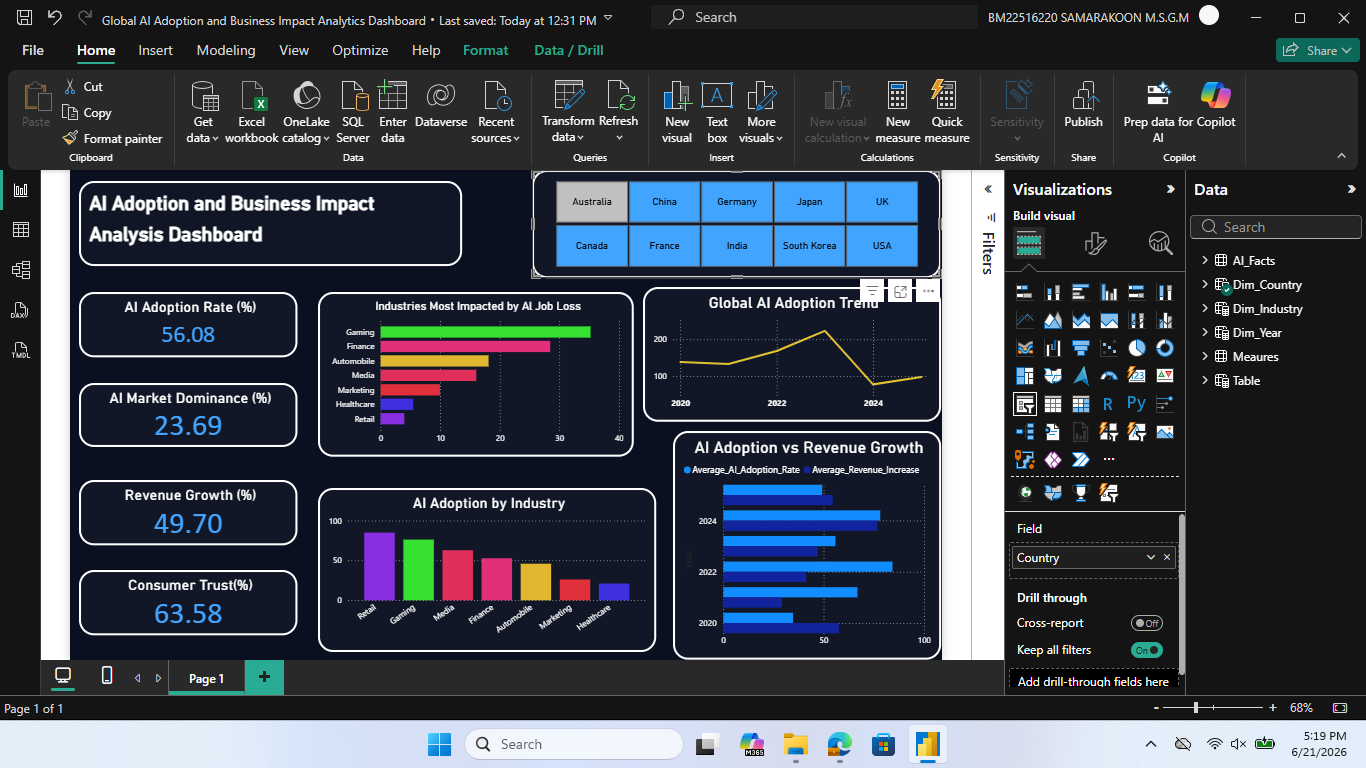

What the dashboard file says about the page in this screenshot:
{"tool":"powerbi","page":{"name":"Page 1","canvas":[1280,720],"ordinal":0},"visuals":[{"type":"card","title":" AI Adoption Rate (%)","fields":{"Values":["Meaures.Average_AI_Adoption_Rate"]},"box":[13.4,179.7,320.8,95.7],"z":0},{"type":"card","title":" Revenue Growth (%)","fields":{"Values":["Meaures.Average_Revenue_Increase"]},"box":[13.4,455.2,320.8,95.7],"z":1000},{"type":"card","title":"Consumer Trust(%)","fields":{"Values":["Meaures.Average_Consumer_Trust"]},"box":[13.4,587.9,320.8,95.7],"z":2000},{"type":"card","title":"AI Market  Dominance (%)","fields":{"Values":["Meaures.Average_market_Share"]},"box":[13.4,312.4,320.8,94.1],"z":3000},{"type":"lineChart","title":"Global AI Adoption Trend","fields":{"Category":["AI_Facts.Year"],"Y":["Sum(AI_Facts.AI_Adoption_Rate)"]},"box":[842,171.9,437.9,198.4],"z":4000},{"type":"columnChart","title":"AI Adoption by Industry","fields":{"Y":["Meaures.Average_AI_Adoption_Rate"],"Category":["Dim_Industry.Industry"]},"box":[364.4,467.3,496.7,241],"z":5000},{"type":"clusteredBarChart","title":"AI Adoption vs Revenue Growth","fields":{"Category":["AI_Facts.Year","Dim_Country.Country"],"Y":["Meaures.Average_AI_Adoption_Rate","Meaures.Average_Revenue_Increase"]},"box":[886,383.5,393.8,336.5],"z":6000},{"type":"slicer","fields":{"Values":["Dim_Country.Country"]},"box":[678.9,0,601,158.7],"z":7000},{"type":"clusteredBarChart","title":"Industries Most Impacted by Al Job Loss","fields":{"Category":["Dim_Industry.Industry"],"Y":["Table.Average Job Loss"]},"box":[364.4,179.3,464.3,242.4],"z":8000},{"type":"textbox","box":[13.2,16.2,562.8,124.9],"z":9000}]}

Visuals, with their boxes on the page's 1280x720 design canvas (x1, y1, x2, y2). These are canvas units, not pixel positions in the 1366x768 screenshot, which may show the page scaled, cropped or inside an application window:
" AI Adoption Rate (%)" card: region(13, 180, 334, 275)
" Revenue Growth (%)" card: region(13, 455, 334, 551)
"Consumer Trust(%)" card: region(13, 588, 334, 684)
"AI Market  Dominance (%)" card: region(13, 312, 334, 406)
"Global AI Adoption Trend" lineChart: region(842, 172, 1280, 370)
"AI Adoption by Industry" columnChart: region(364, 467, 861, 708)
"AI Adoption vs Revenue Growth" clusteredBarChart: region(886, 384, 1280, 720)
slicer - Dim_Country.Country: region(679, 0, 1280, 159)
"Industries Most Impacted by Al Job Loss" clusteredBarChart: region(364, 179, 829, 422)
textbox: region(13, 16, 576, 141)
